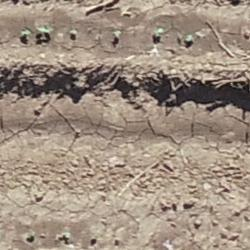cotton: (62, 230, 72, 236), (154, 29, 162, 36), (41, 25, 49, 31), (22, 29, 29, 35), (114, 30, 120, 36), (185, 35, 191, 41), (28, 232, 34, 236), (71, 29, 74, 34)
